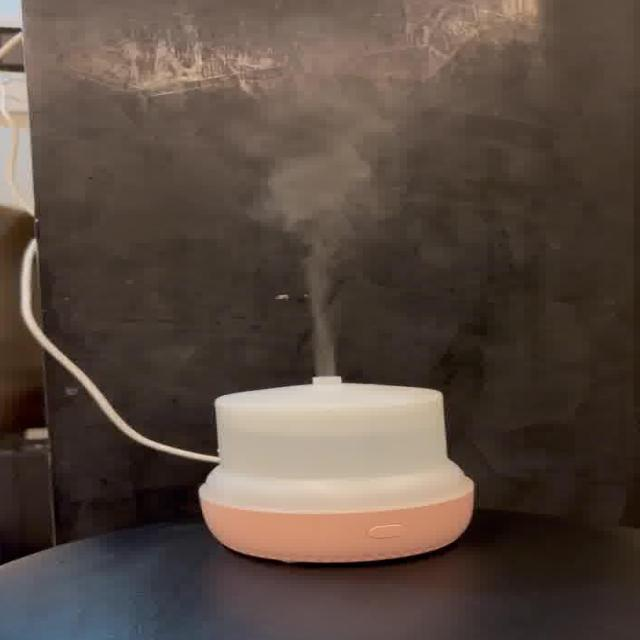fire: (231, 77, 419, 372)
